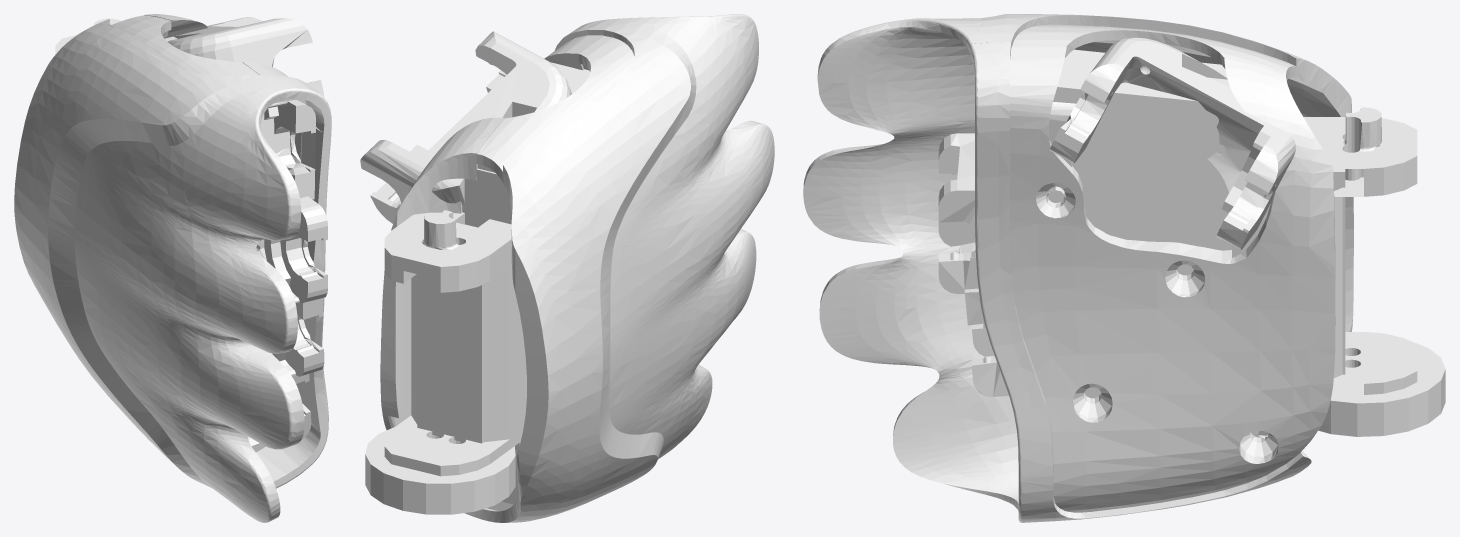
File: rh_wrist_carpal_link0_vis.obj
3 views of the same model, side by side, from view 1: azimuth 30°, elevation 25°; view 2: azimuth 150°, elevation 25°; view 3: azimuth 270°, elevation 25° (orthographic). The views are drawn at different scales.
Visible parts, largest first — view 1: rh_wrist_carpal_link0; view 2: rh_wrist_carpal_link0; view 3: rh_wrist_carpal_link0.
Boxes of the visible parts, left/top/right/bottom form: rh_wrist_carpal_link0: left=14, top=14, right=331, bottom=522; rh_wrist_carpal_link0: left=360, top=14, right=774, bottom=522; rh_wrist_carpal_link0: left=803, top=14, right=1445, bottom=522.
Bounding box in the file's own units: 0.0479 × 0.0869 × 0.1042.
1 material, 1 textured.
